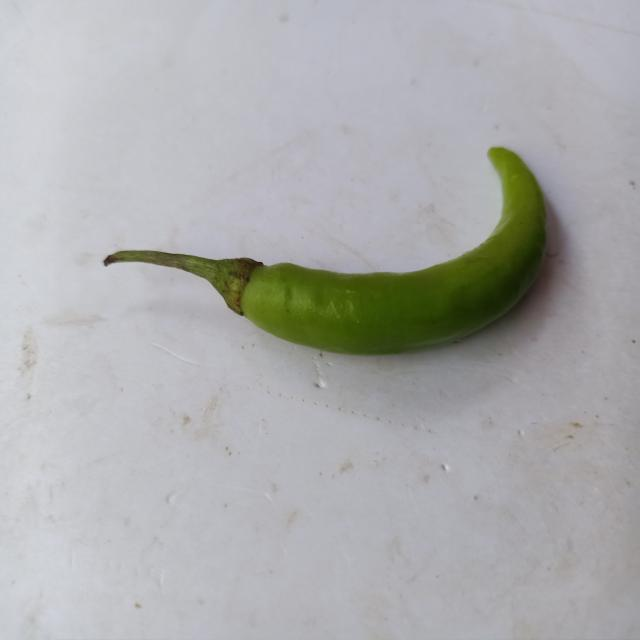Green Chilly: (103, 147, 547, 354)
